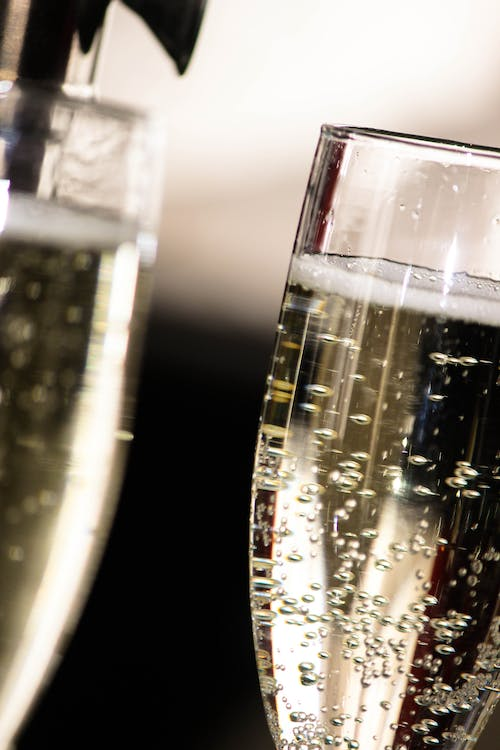alcohol: (247, 120, 500, 750), (0, 74, 171, 750)
